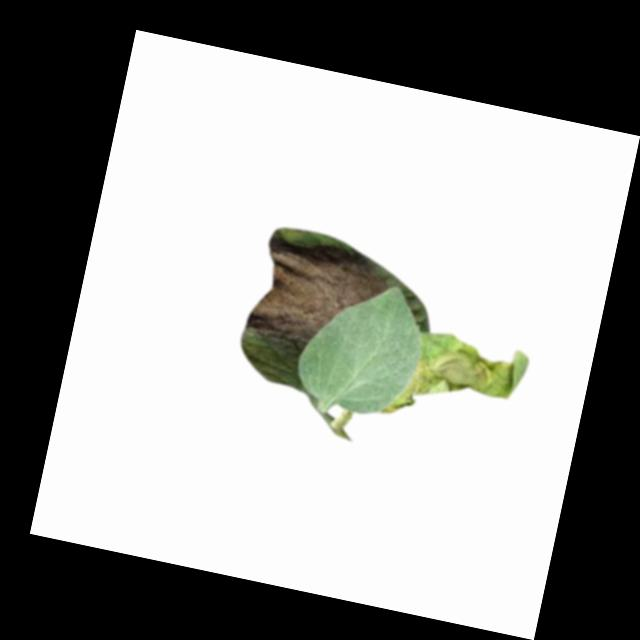Late_blight: (239, 230, 393, 363), (380, 325, 531, 442)
